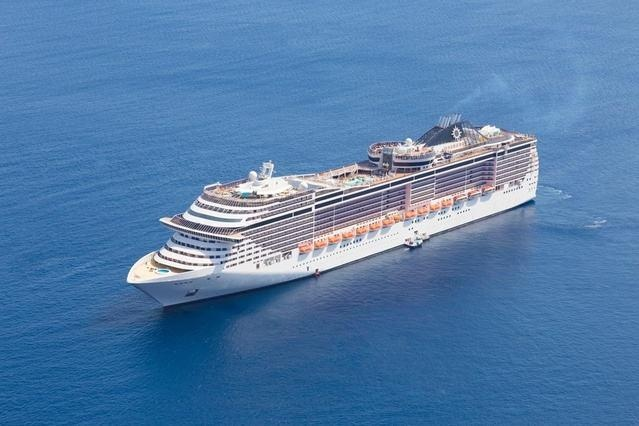youlun: (124, 109, 542, 309)
